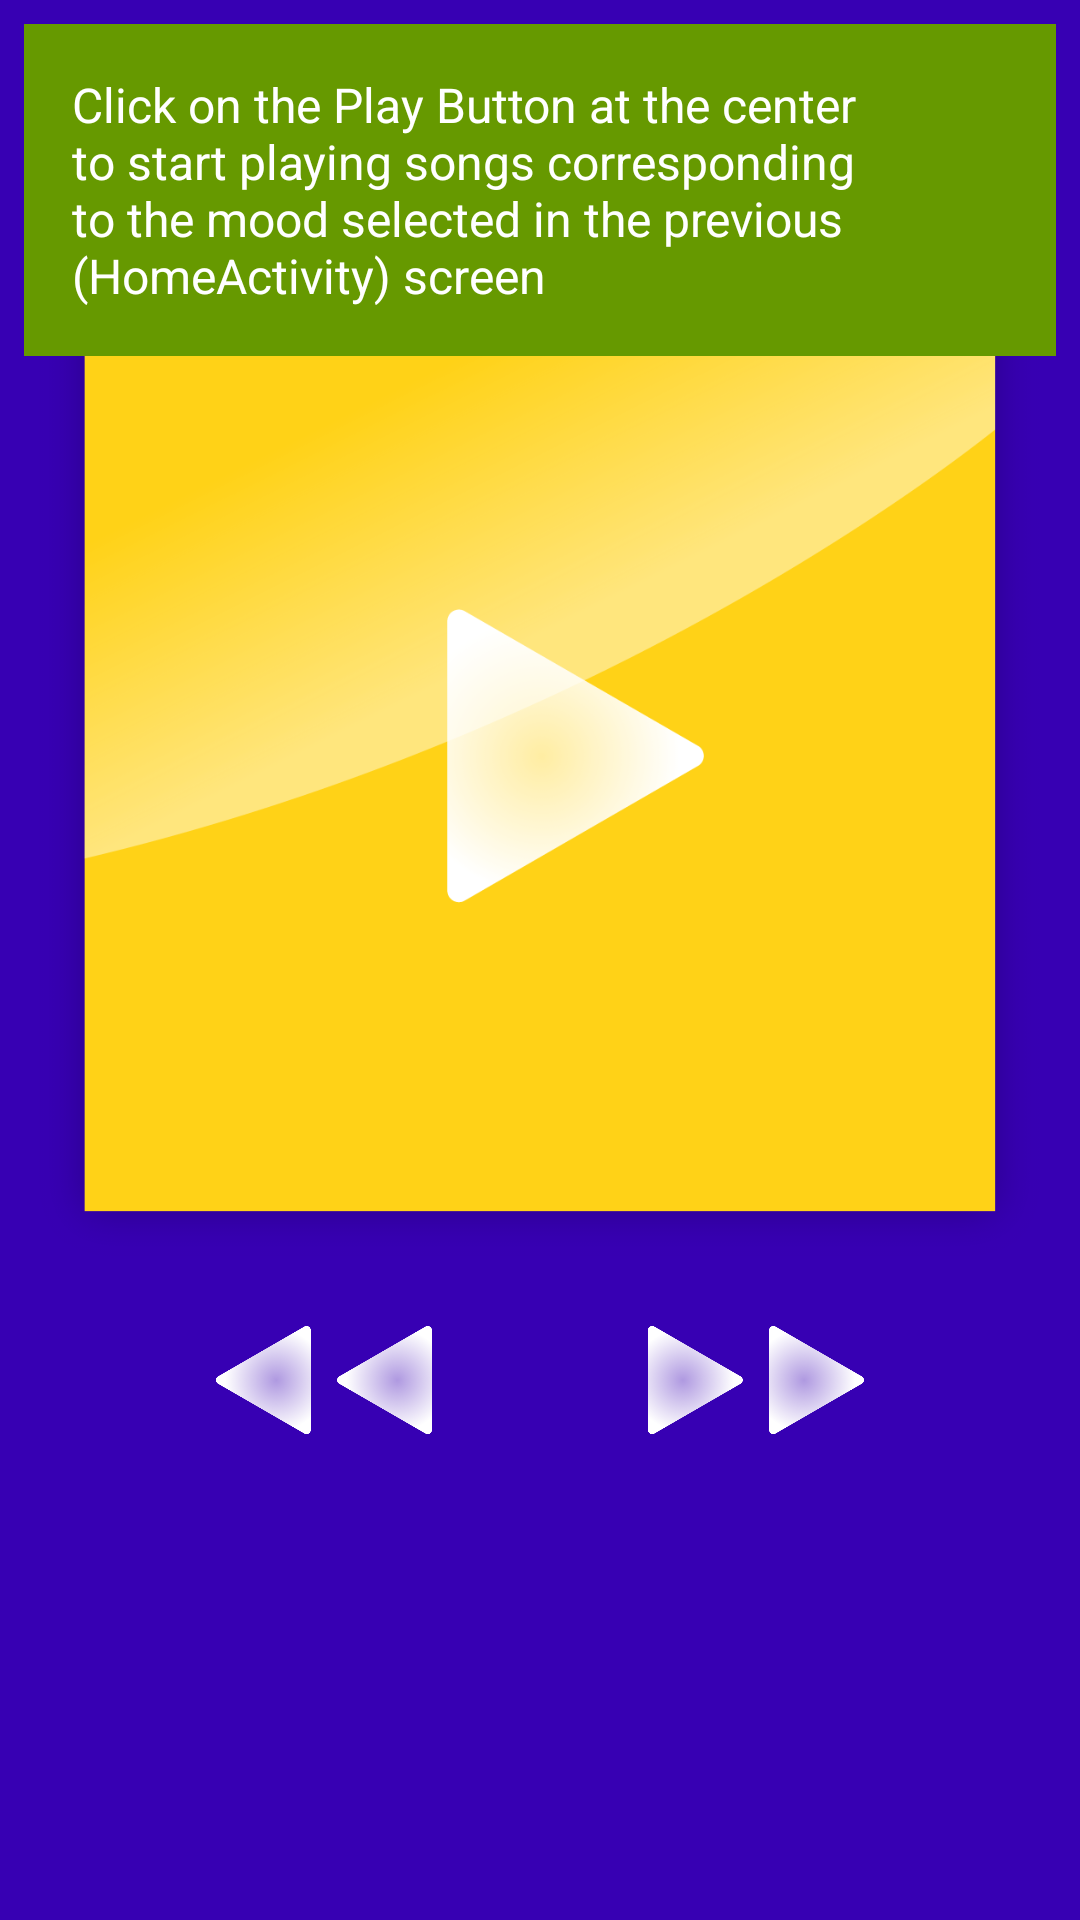

Where to tap for icons on this 1080 x 1920 app screen, as (x=x, y=y):
Forward: (x=756, y=1380)
Rewind: (x=324, y=1380)
